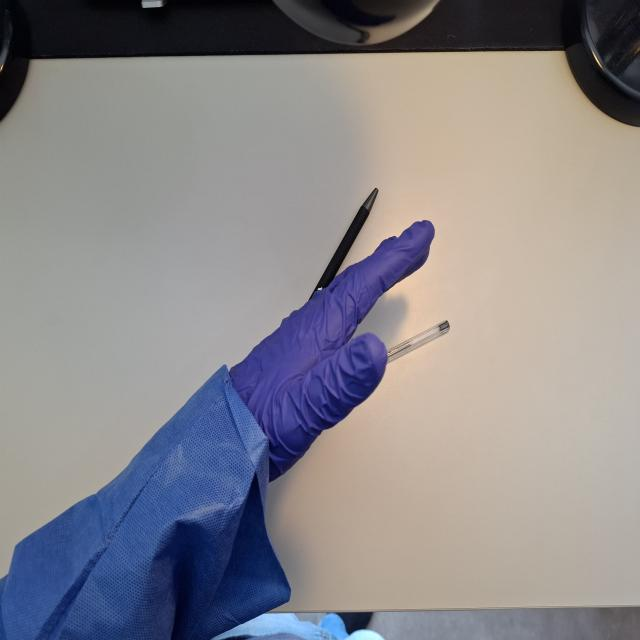glove_on: (226, 217, 437, 492)
